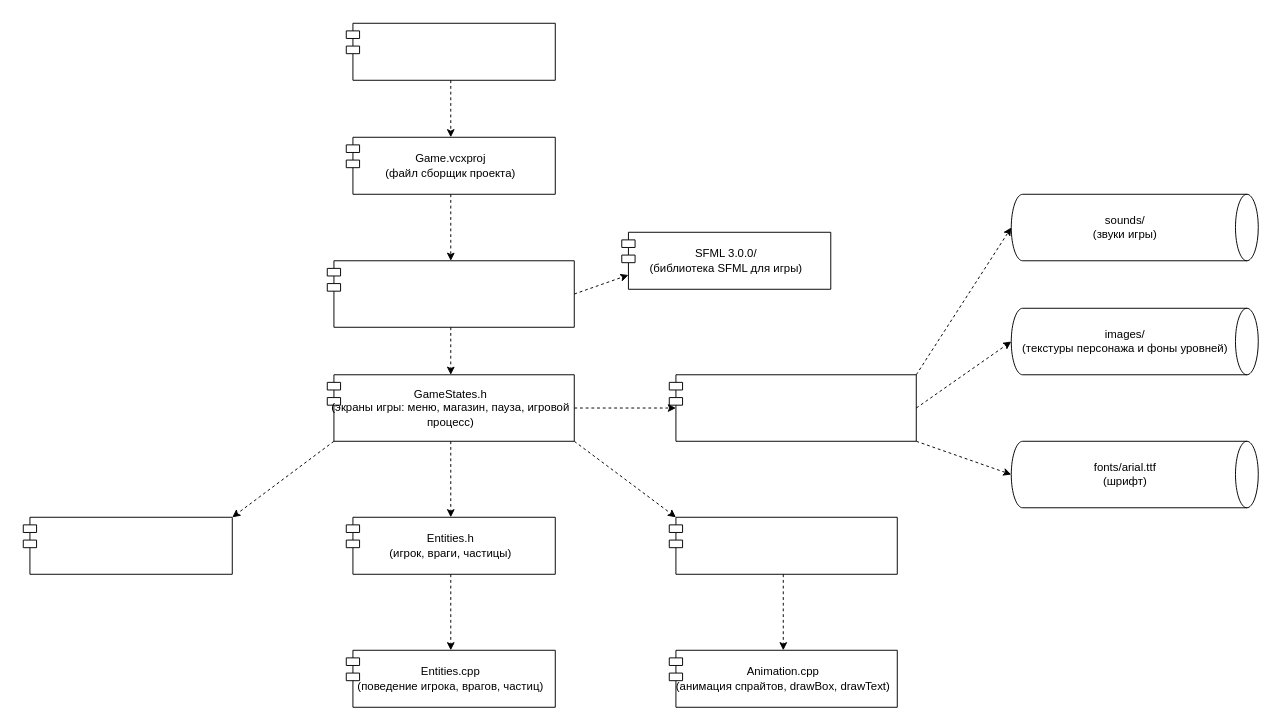
This 1275x724 diagram has some shape labels left out. Each missing label, with the centre of its shape:
"Animation.h (анимация и вспомогательные функции)" belongs at point (782, 545).
"Constants.h (игровые константы)" belongs at point (127, 545).
"GameStates.cpp (реализация экранов и игрового цикла)" belongs at point (792, 407).
"main.cpp (точка входа, загрузочный экран, главный цикл)" belongs at point (450, 293).
"SpectralDust.exe (исполняемый файл)" belongs at point (450, 51).
